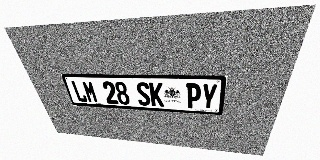2: (101, 81, 119, 104)
8: (114, 81, 130, 105)
K: (149, 82, 164, 107)
L: (70, 80, 88, 102)
M: (81, 81, 99, 103)
P: (186, 83, 201, 109)
S: (135, 82, 151, 106)
Y: (200, 84, 218, 110)
